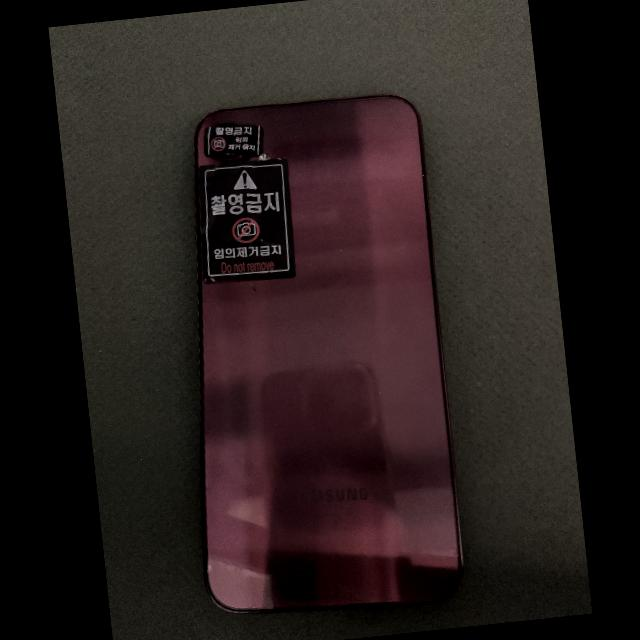phone: (194, 94, 462, 612)
sticker: (198, 158, 295, 282), (203, 125, 263, 155)
